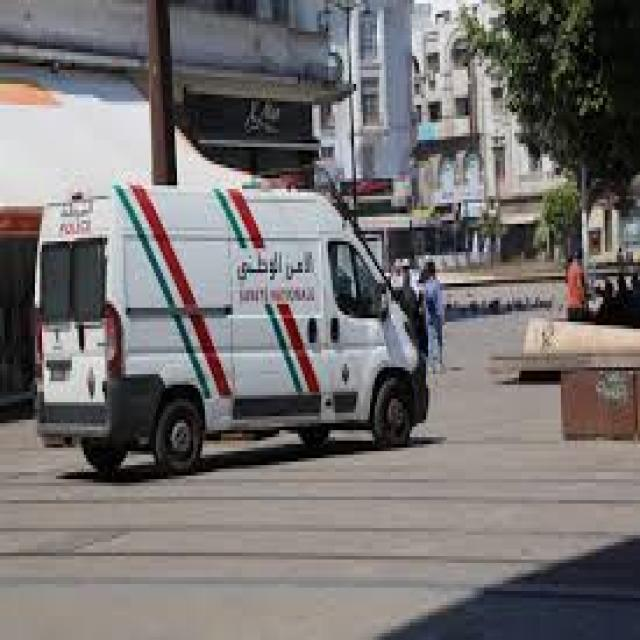Police car: (25, 156, 435, 484)
